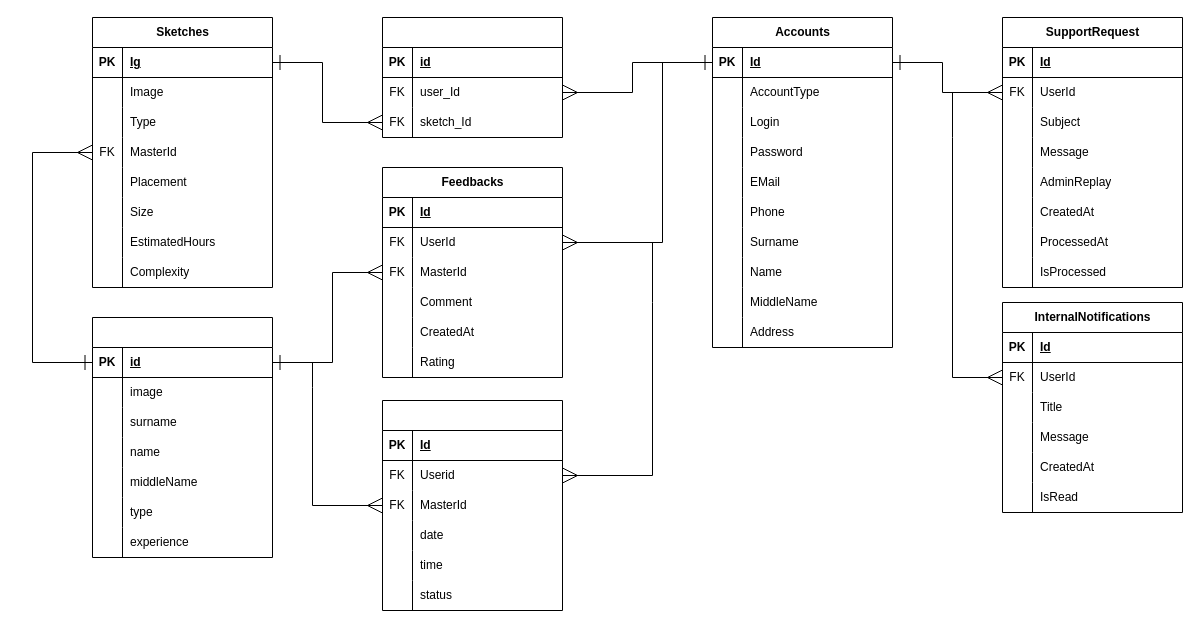
Some shapes in this 1200 by 628 pixel diagram are drawn without their labels. Here are the shapes that lost their labels. From the top down, the box of each, then its label:
(382, 16, 562, 138): Favorities
(92, 316, 272, 558): Masters
(382, 400, 562, 610): Reservations
